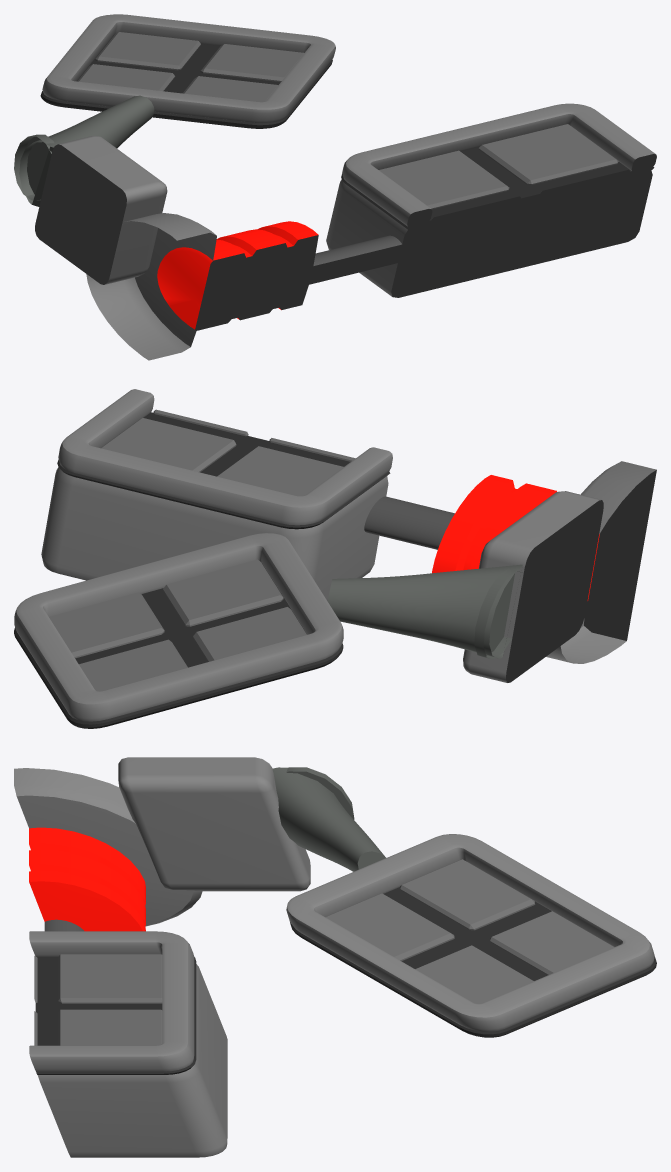
The model's file is station_l_tr.glb.
The picture shows the model from 3 angles, top to bottom: view 1: azimuth 30°, elevation 25°; view 2: azimuth 150°, elevation 25°; view 3: azimuth 270°, elevation 25°; orthographic projection. The views are drawn at different scales.
Parts seen in each view (by area): view 1: station_l_tr; view 2: station_l_tr; view 3: station_l_tr.
Boxes of the visible parts, x1,y1,x2,y2 form: station_l_tr: (14,14,656,360); station_l_tr: (14,389,656,728); station_l_tr: (14,757,656,1157).
Size of the model in its own units: 23.6 by 7.02 by 25.79.
